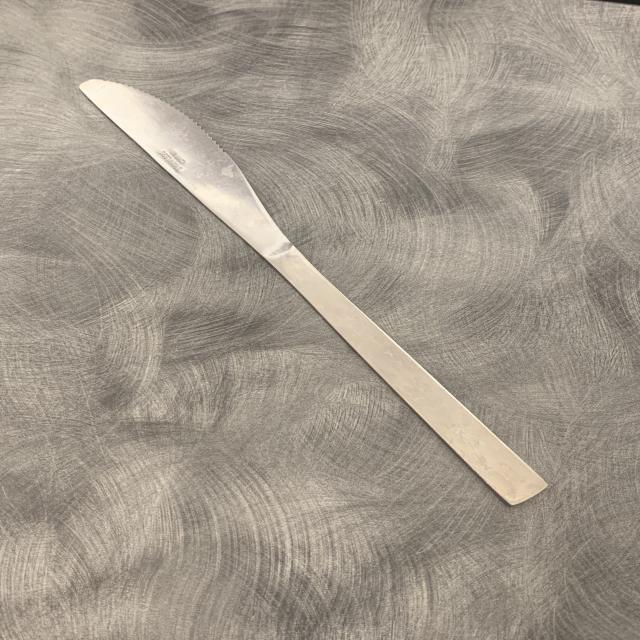knife: (69, 63, 564, 522)
